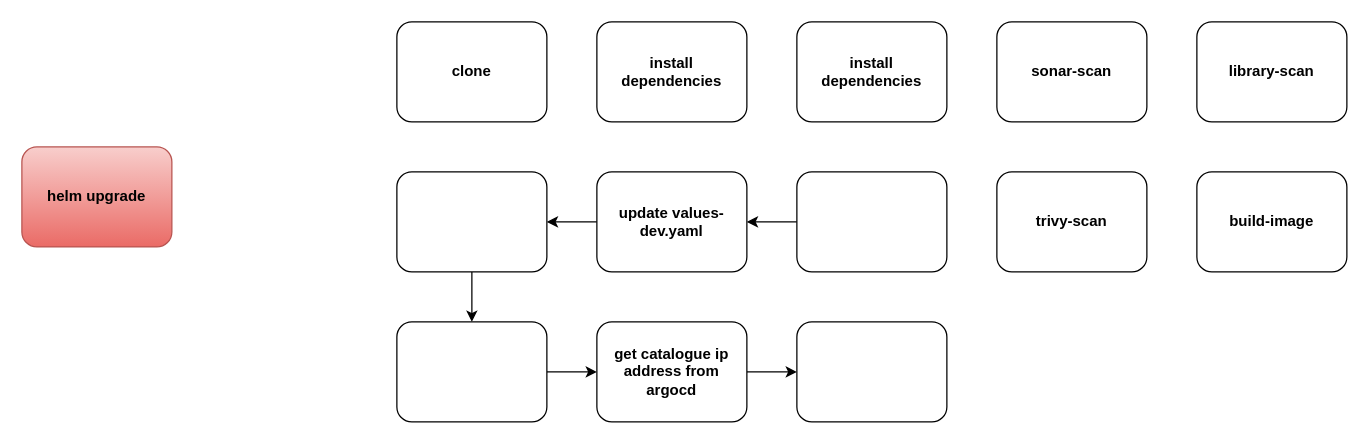
Some shapes in this 1369 by 444 pixel diagram are drawn without their labels. The shapes that lost their labels are listed below. From the top down, each one's centre as x and y in pixels, then its label:
point 471,221: inform argocd to sync
point 871,221: push-image
point 471,371: check argocd app health
point 871,371: api tests
